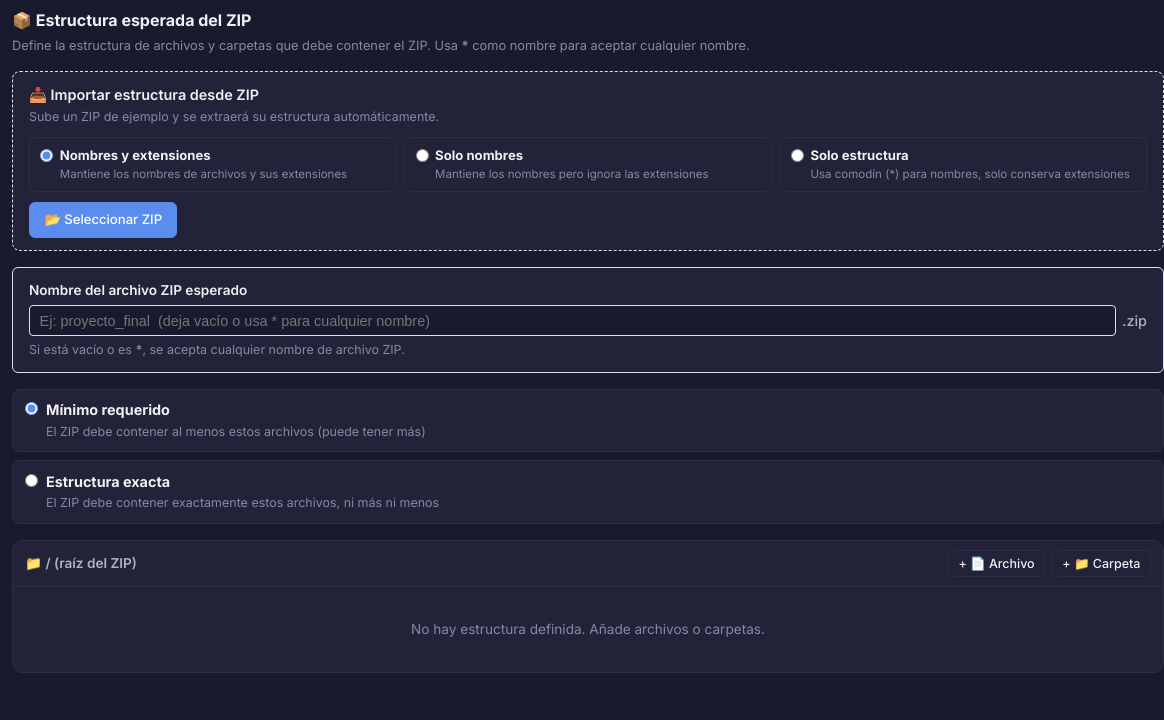
Test: EstructuraZipBuilder - Importar ZIP › permite cambiar el modo de importación
The image size is (1164, 720).
Click the text "Solo estructura". click: (860, 154)
box: [810,146,909,162]
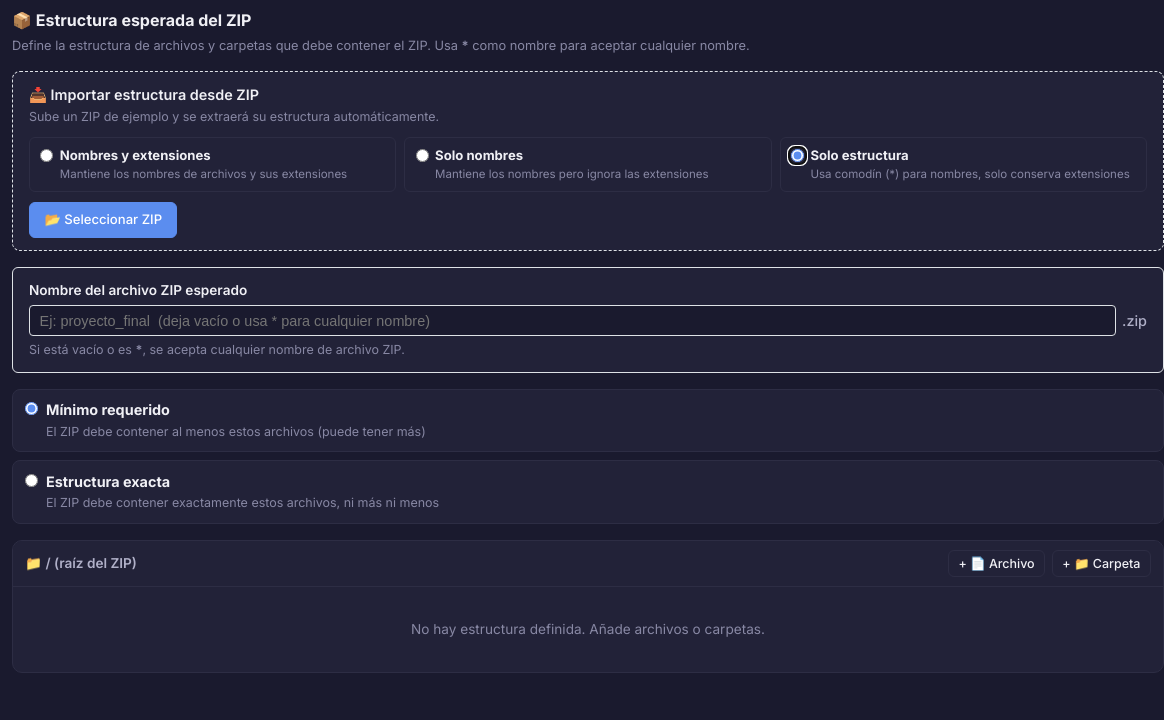
expect the 3rd radio button is checked: met, box [791,148,804,162]
